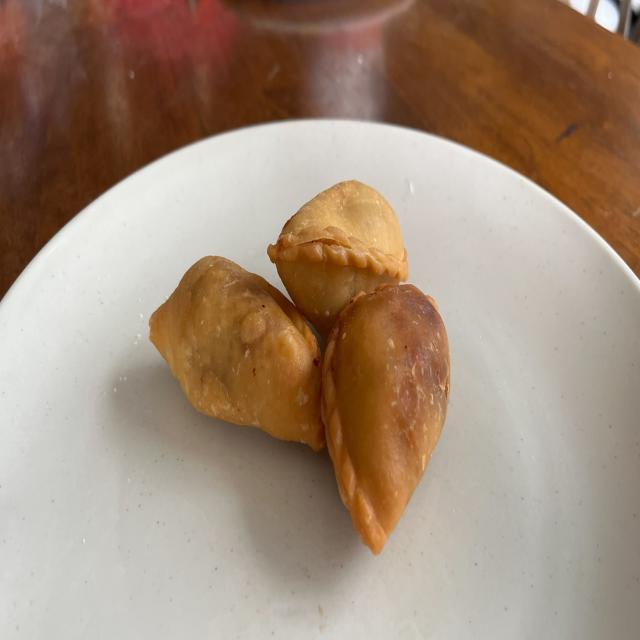karipap: (321, 284, 450, 553), (149, 256, 325, 451), (268, 180, 409, 338)
